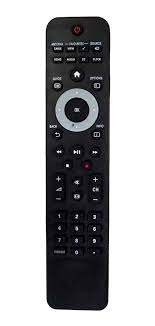remote control: (37, 16, 118, 314)
